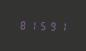eight: (18, 19, 27, 30)
five: (38, 19, 47, 31)
nine: (48, 20, 57, 31)
one: (28, 19, 37, 30), (58, 20, 67, 31)
